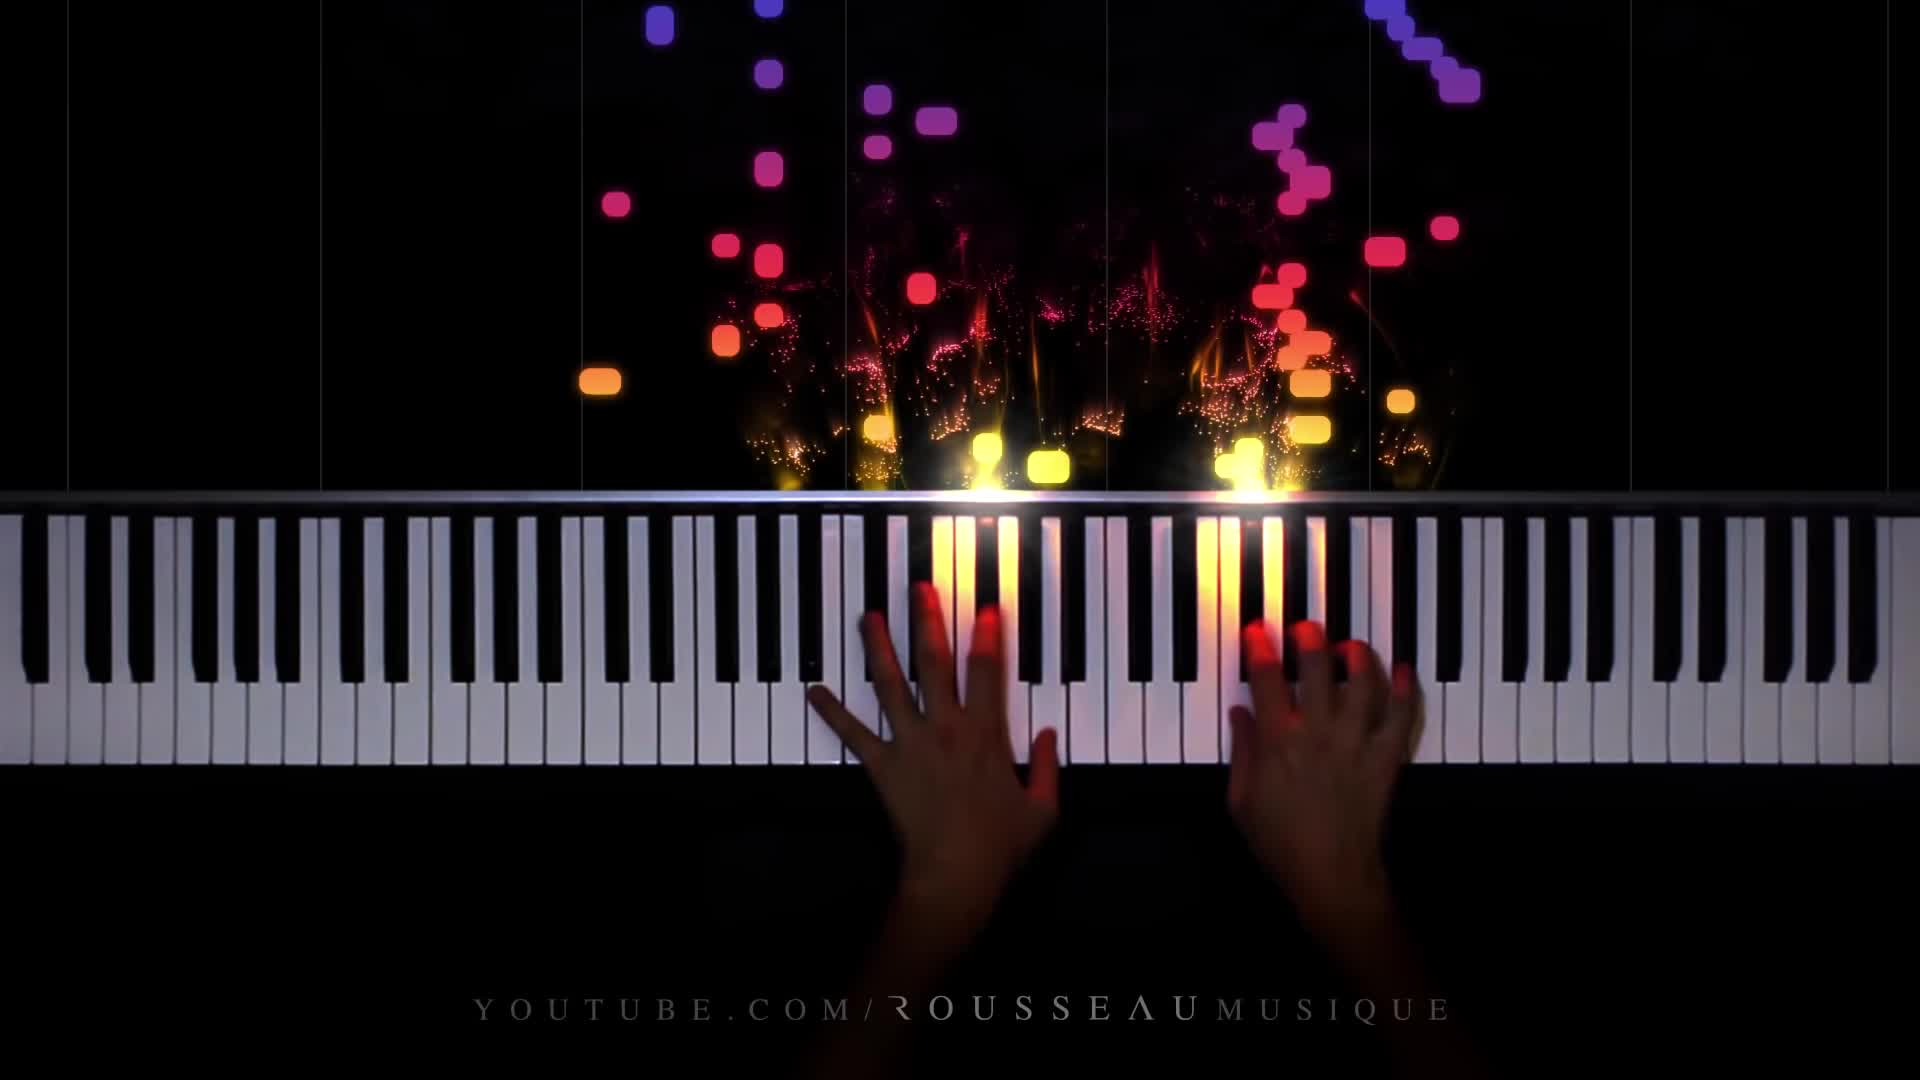left: (808, 576, 1067, 870)
right: (1215, 613, 1428, 886)
